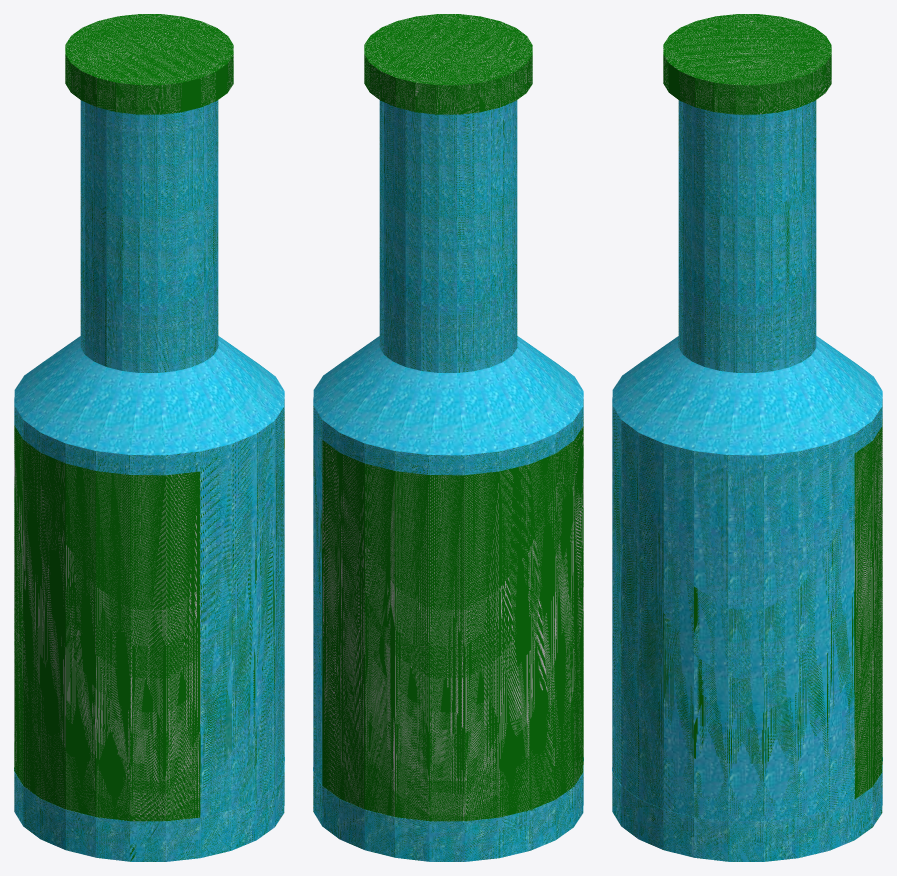
3 renders of one model, left to right at view 1: azimuth 30°, elevation 25°; view 2: azimuth 150°, elevation 25°; view 3: azimuth 270°, elevation 25°, orthographic.
Visible parts, largest first — view 1: mesh1_mesh1-geometry; view 2: mesh1_mesh1-geometry; view 3: mesh1_mesh1-geometry.
Boxes of the visible parts, <box> form: mesh1_mesh1-geometry: <box>14,14,284,861</box>; mesh1_mesh1-geometry: <box>313,14,583,861</box>; mesh1_mesh1-geometry: <box>612,14,882,861</box>.
Size of the model in its own units: 0.2953 by 0.9086 by 0.2953.
